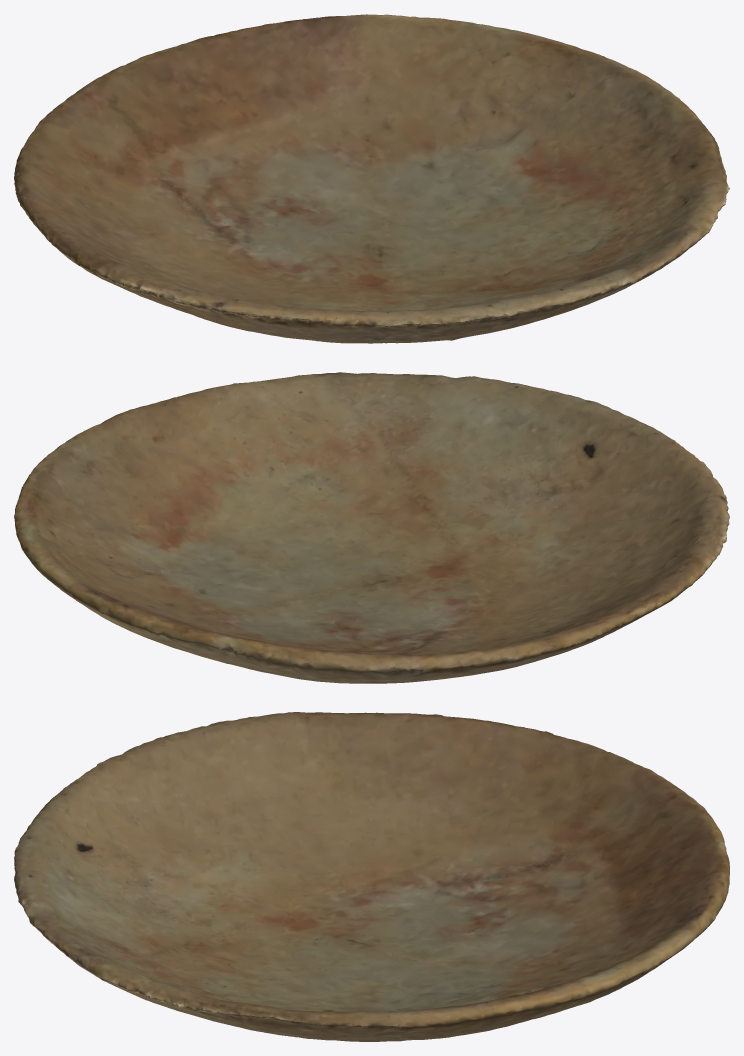
3 renders of one model, top to bottom at view 1: azimuth 30°, elevation 25°; view 2: azimuth 150°, elevation 25°; view 3: azimuth 270°, elevation 25°, orthographic. The views are drawn at different scales.
Visible parts, largest first — view 1: Mesh_0.006; view 2: Mesh_0.006; view 3: Mesh_0.006.
Boxes of the visible parts, x1,y1,x2,y2 form: Mesh_0.006: [14, 14, 729, 343]; Mesh_0.006: [14, 372, 729, 683]; Mesh_0.006: [14, 712, 729, 1041].
Bounding box in the file's own units: 0.2388 × 0.0422 × 0.2349.
1 material, 1 textured.
